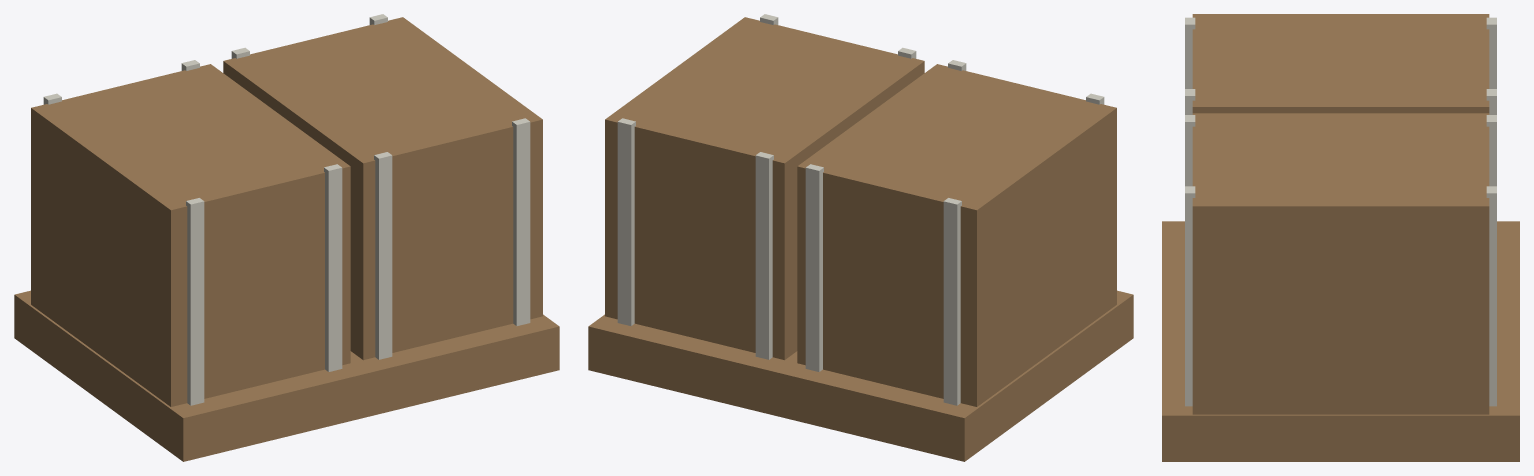
The model's file is pallet_crates.glb.
3 views of the same model, side by side, from view 1: azimuth 30°, elevation 25°; view 2: azimuth 150°, elevation 25°; view 3: azimuth 270°, elevation 25° (orthographic). The views are drawn at different scales.
Visible parts, largest first — view 1: pallet_crates; view 2: pallet_crates; view 3: pallet_crates.
Boxes of the visible parts, bbox=[...] form: pallet_crates: bbox=[14, 14, 559, 461]; pallet_crates: bbox=[588, 14, 1133, 461]; pallet_crates: bbox=[1162, 14, 1519, 461].
Bounding box in the file's own units: 1.8 × 1.12 × 1.4.
